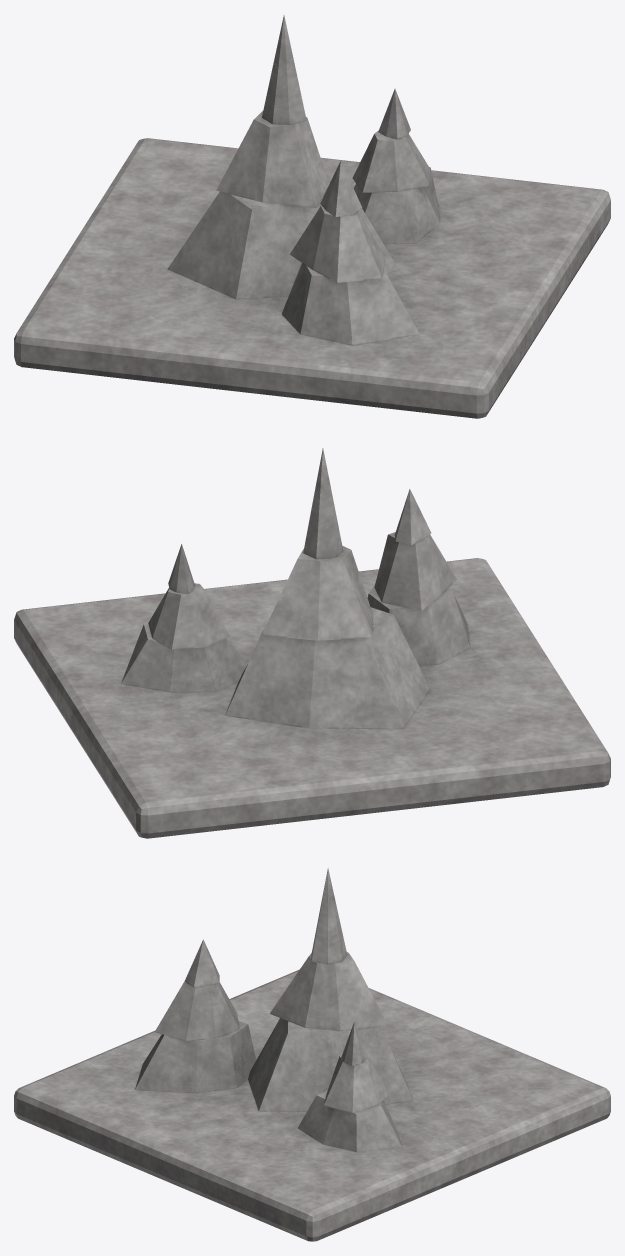
The model's file is center_hills.glb.
The picture shows the model from 3 angles, top to bottom: view 1: azimuth 30°, elevation 25°; view 2: azimuth 150°, elevation 25°; view 3: azimuth 270°, elevation 25°; orthographic projection. The views are drawn at different scales.
Visible parts, largest first — view 1: dilek; view 2: dilek; view 3: dilek.
Boxes of the visible parts, x1,y1,x2,y2 form: dilek: (14,15,610,418); dilek: (14,448,610,838); dilek: (14,868,610,1241).
Size of the model in its own units: 2.42 by 1.09 by 2.42.
Materials: 1 (1 with a texture image).
